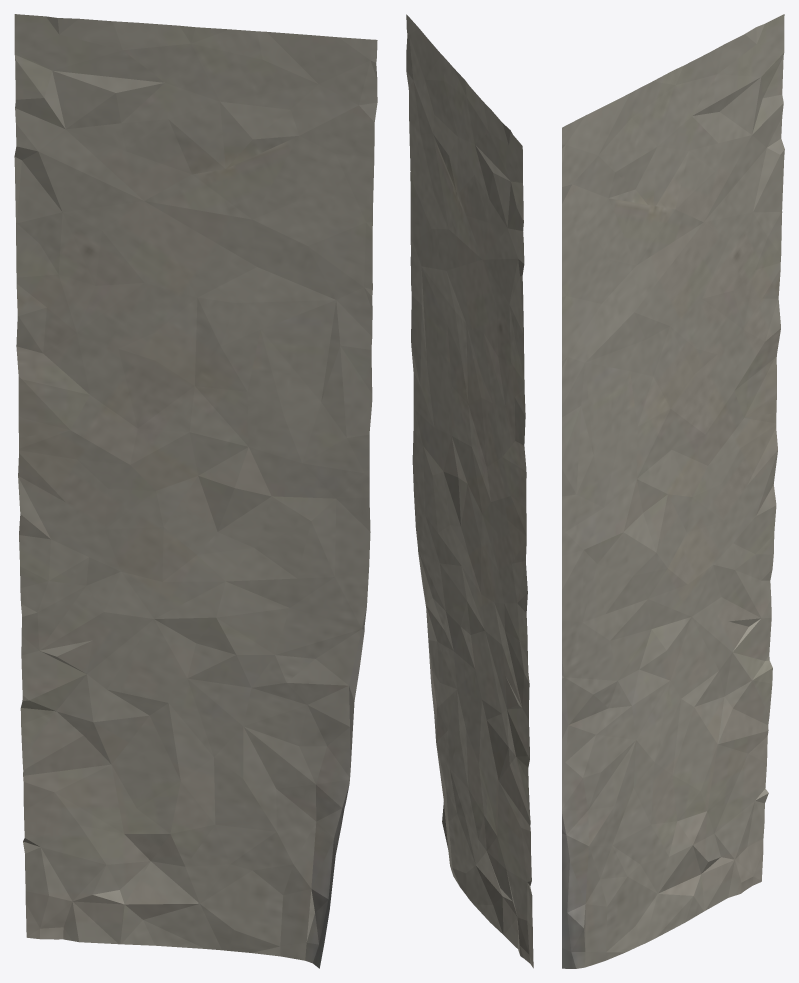
3 views of the same model, side by side, from view 1: azimuth 30°, elevation 25°; view 2: azimuth 150°, elevation 25°; view 3: azimuth 270°, elevation 25° (orthographic). The views are drawn at different scales.
Bounding box in the file's own units: 0.2352 × 0.8374 × 0.1949.
1 material, 1 textured.
